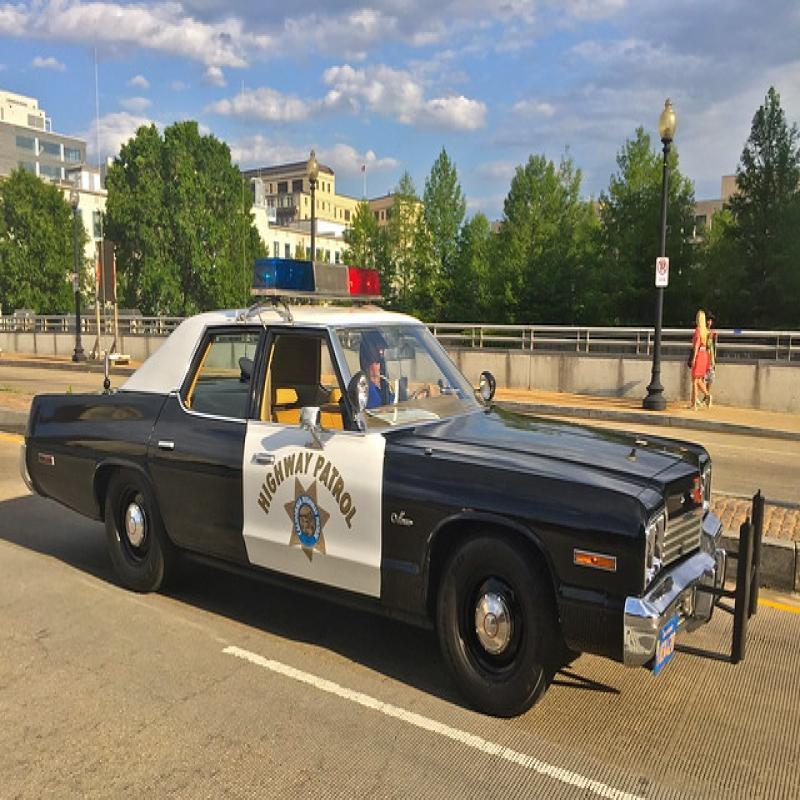AmbulanceSiren: (243, 239, 385, 315)
